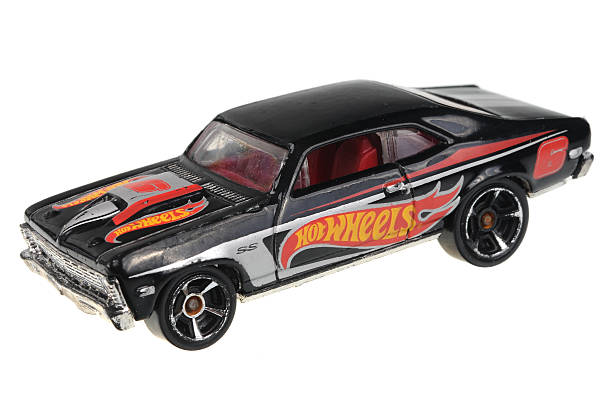Car: (0, 18, 612, 391)
